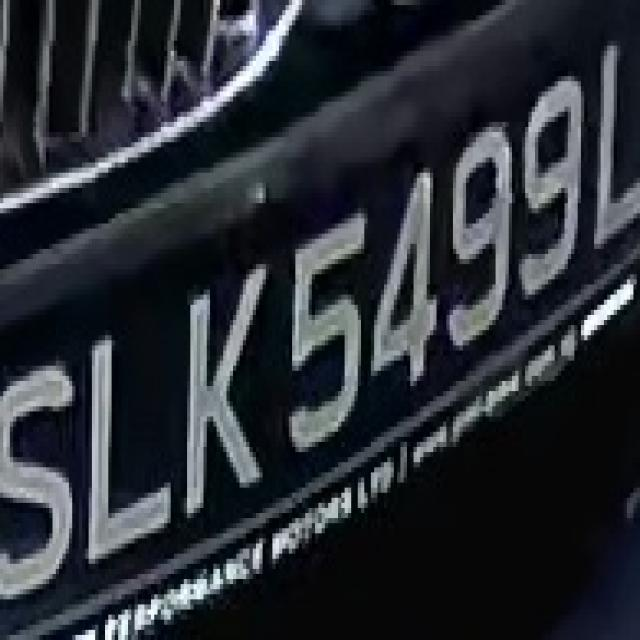4: (368, 158, 443, 402)
5: (279, 218, 377, 472)
9: (436, 117, 518, 355), (509, 86, 594, 305)
K: (180, 259, 272, 518)
L: (79, 335, 174, 559), (3, 0, 3, 2)
S: (4, 335, 76, 615)
